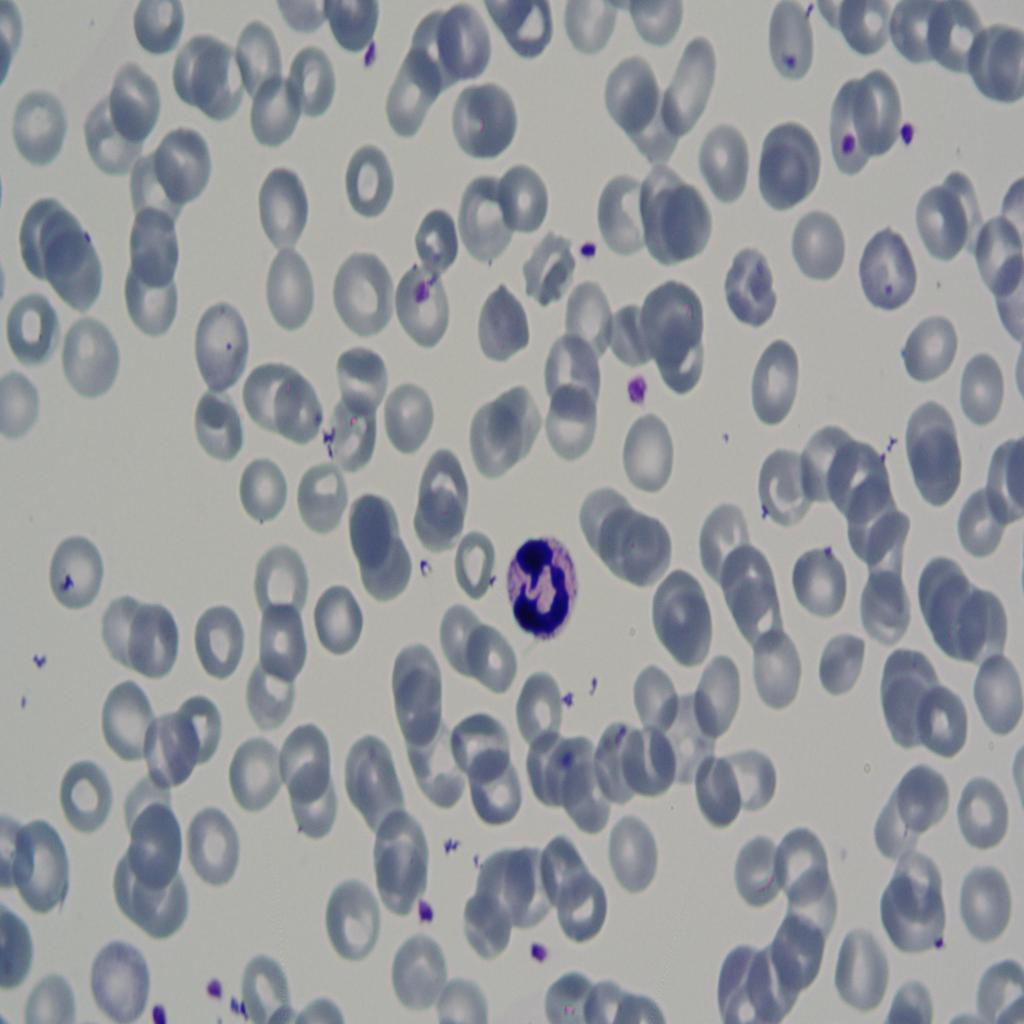Neutrofil: (489, 505, 581, 654)
Platelet: (351, 39, 400, 90), (620, 368, 662, 417), (416, 880, 445, 949), (404, 272, 444, 320), (830, 120, 864, 173), (894, 99, 924, 159), (574, 222, 606, 270), (529, 934, 559, 982), (198, 970, 233, 1011), (148, 984, 179, 1024), (777, 40, 805, 82)
